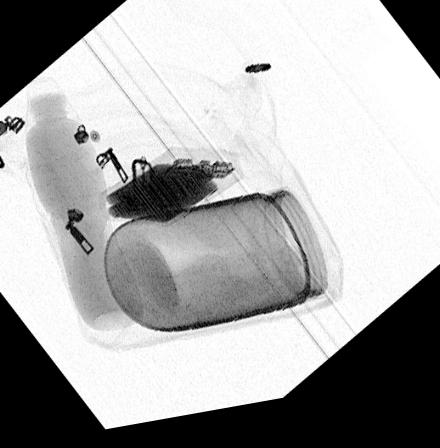Powerbank: (98, 152, 242, 234)
